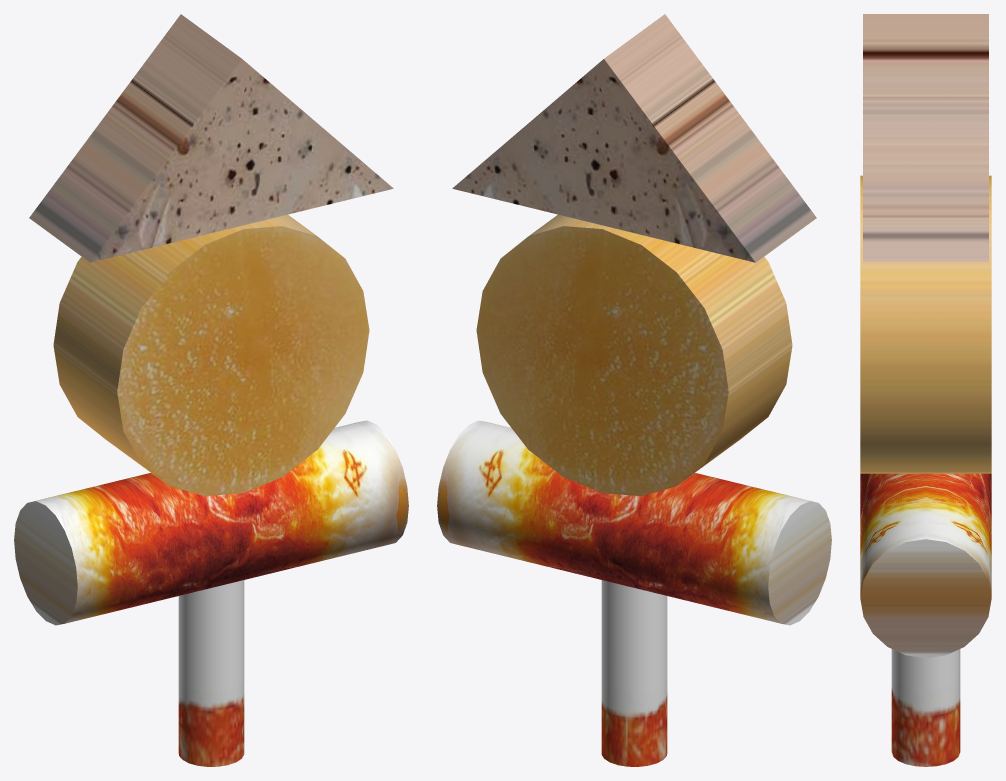
Rendered from Oden.fbx.
The picture shows the model from 3 angles, left to right: view 1: azimuth 30°, elevation 25°; view 2: azimuth 150°, elevation 25°; view 3: azimuth 270°, elevation 25°; orthographic projection. The views are drawn at different scales.
Visible parts, largest first — view 1: pPrism2; view 2: pPrism2; view 3: pPrism2.
Part boxes in pixels (x1,y1,x2,y2): pPrism2: (14,14,408,766); pPrism2: (437,14,831,766); pPrism2: (860,14,991,766).
Size of the model in its own units: 2.31 by 4.77 by 0.7688.
Materials: 1 (1 with a texture image).
